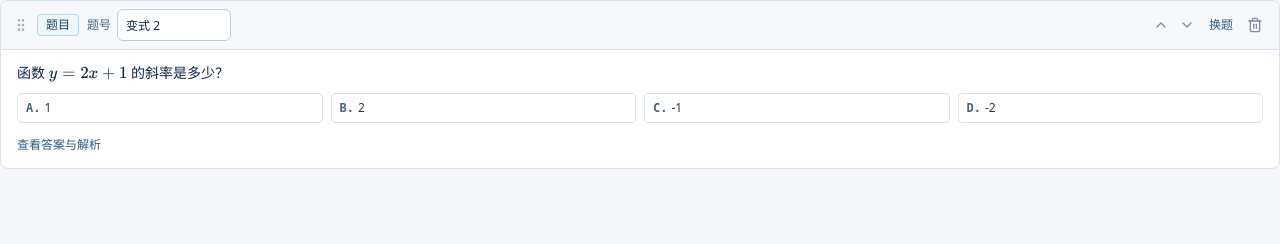
Test: LectureSectionEditorRow › displays an existing custom number and toggles related-question replacement
The image size is (1280, 244).
Expected: the field named "题目编号：一次函数练习" holds "变式 2", [117,9,231,41]
Click the button "换题" at (1221, 25), box [1201,13,1241,37]
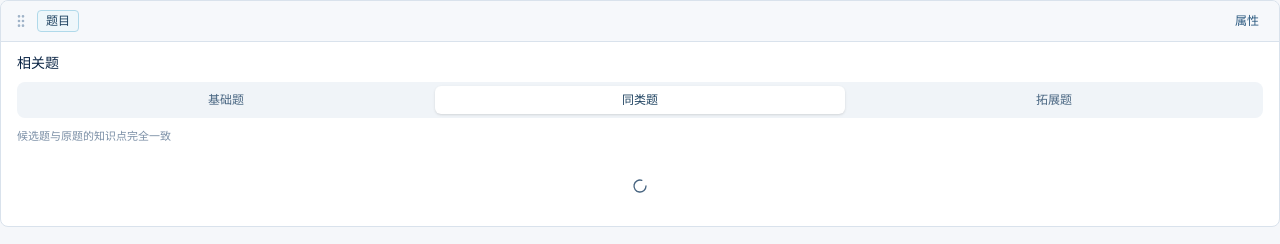
Expected: the button "属性" is shown
Expected: the field labelled "题目编号：一次函数练习" is gone
Click the button "属性" at (1247, 21), box [1227,9,1267,33]
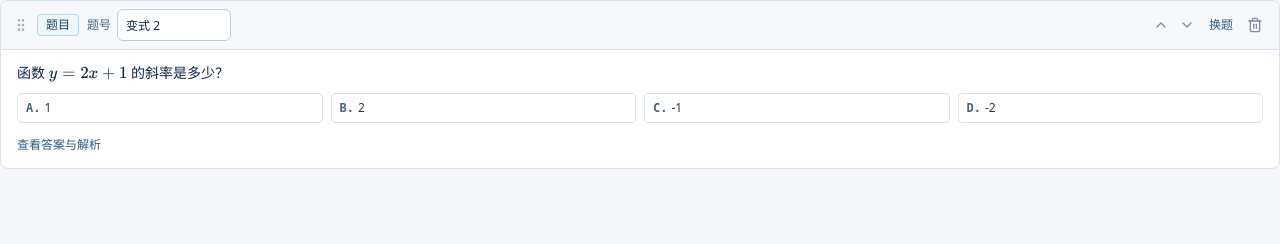
Expected: the field named "题目编号：一次函数练习" is shown, [117,9,231,41]
